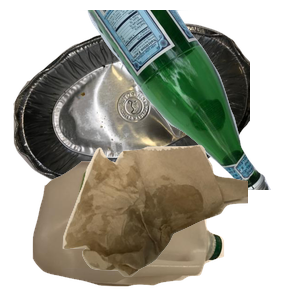glass: (75, 10, 300, 190)
metal: (11, 20, 251, 200)
plastic: (30, 159, 247, 300)
trash: (60, 142, 300, 300)
